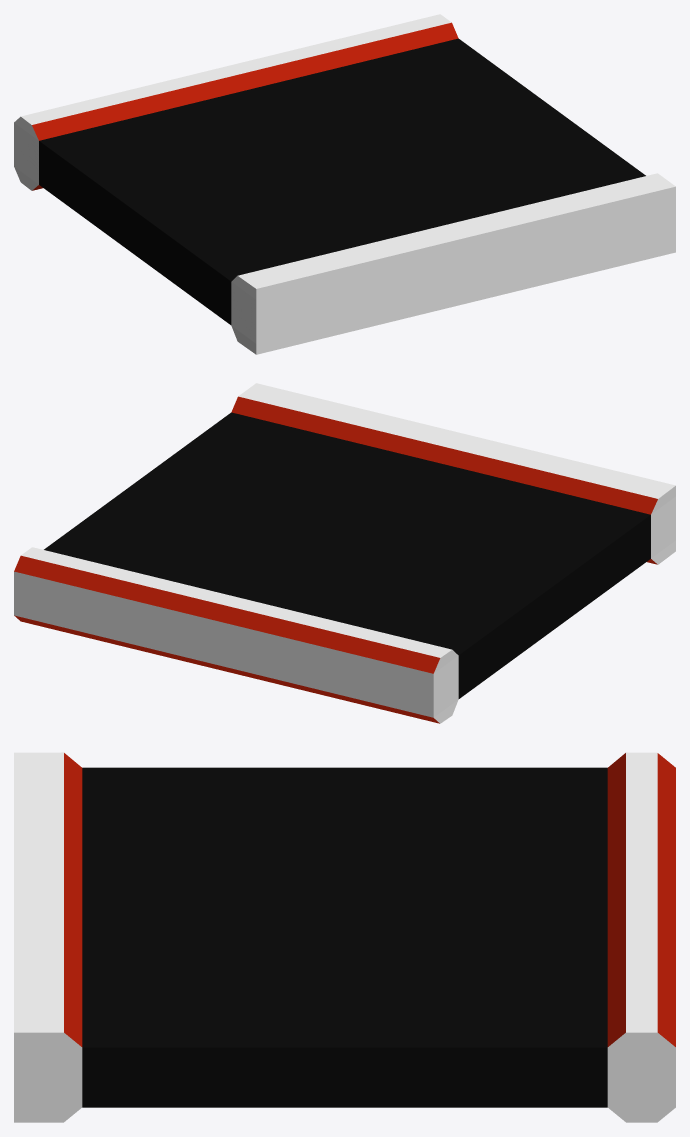
File: S_assete_basement_platform_6.fbx
The picture shows the model from 3 angles, top to bottom: view 1: azimuth 30°, elevation 25°; view 2: azimuth 150°, elevation 25°; view 3: azimuth 270°, elevation 25°; orthographic projection. The views are drawn at different scales.
Visible parts, largest first — view 1: platforme_6; view 2: platforme_6; view 3: platforme_6.
Boxes of the visible parts, x1,y1,x2,y2 form: platforme_6: (14,14,675,354); platforme_6: (14,383,675,723); platforme_6: (14,752,675,1122).
Bounding box in the file's own units: 200 × 30 × 200.
